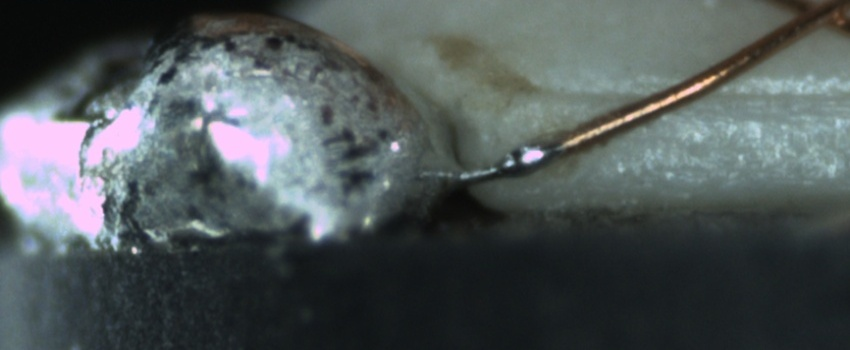CL: (772, 0, 847, 40)
DL: (508, 63, 850, 127)
TB: (503, 141, 551, 174)
TS: (463, 138, 563, 188)
TTCW: (416, 117, 600, 185)
